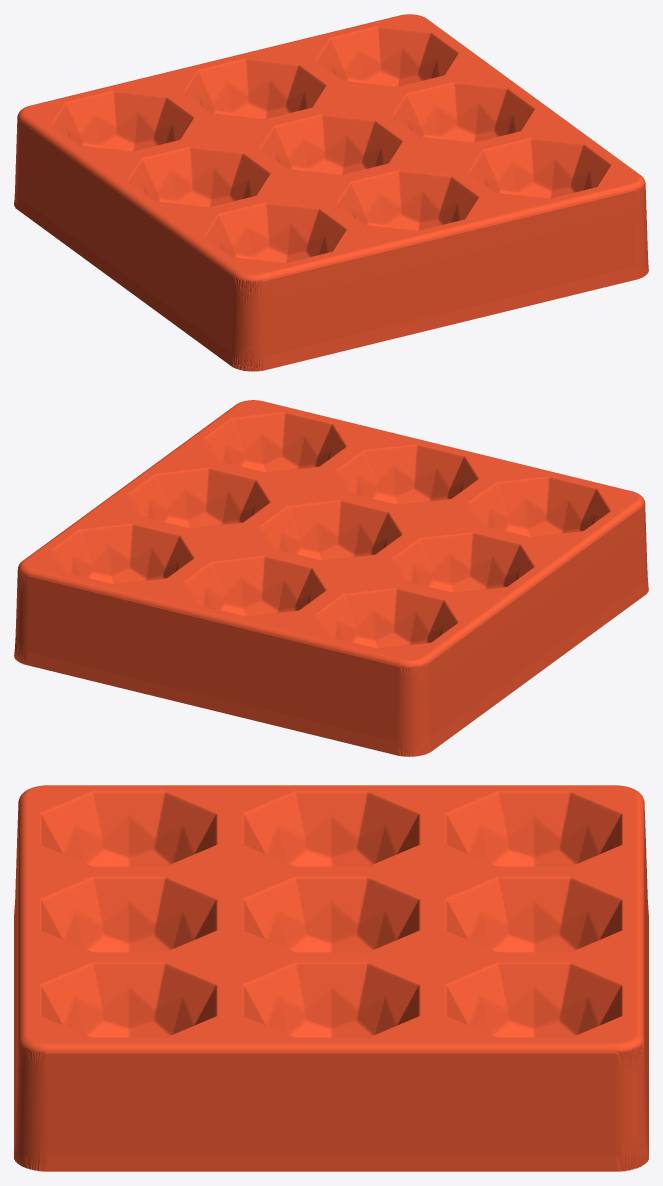
File: mold.glb
3 renders of one model, top to bottom at view 1: azimuth 30°, elevation 25°; view 2: azimuth 150°, elevation 25°; view 3: azimuth 270°, elevation 25°, orthographic. The views are drawn at different scales.
Parts seen in each view (by area): view 1: geometry_0; view 2: geometry_0; view 3: geometry_0.
Part boxes in pixels (x1=…): geometry_0: x1=14, y1=14, x2=648, y2=371; geometry_0: x1=14, y1=400, x2=648, y2=756; geometry_0: x1=14, y1=785, x2=648, y2=1171.
Size of the model in its own units: 0.1696 by 0.0362 by 0.1696.
